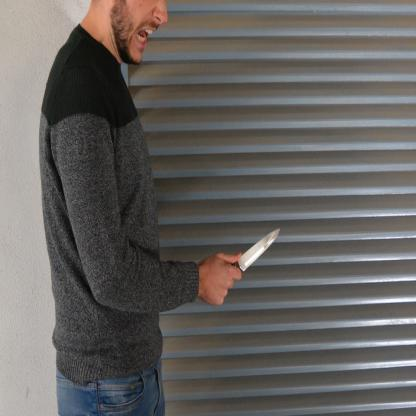knife: (219, 222, 284, 285)
